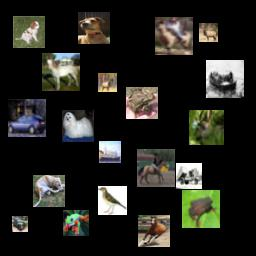automobile: (8, 99, 46, 137), (12, 216, 28, 232)
bird: (98, 186, 127, 215)
deer: (189, 110, 224, 145), (199, 23, 218, 42), (98, 73, 117, 92)
dog: (33, 175, 65, 207), (78, 12, 110, 44), (62, 110, 94, 142), (13, 16, 45, 48)
frog: (182, 190, 220, 228), (126, 87, 158, 119), (63, 210, 89, 236)
ship: (206, 60, 244, 98), (99, 141, 121, 163)
truck: (176, 163, 202, 189)
